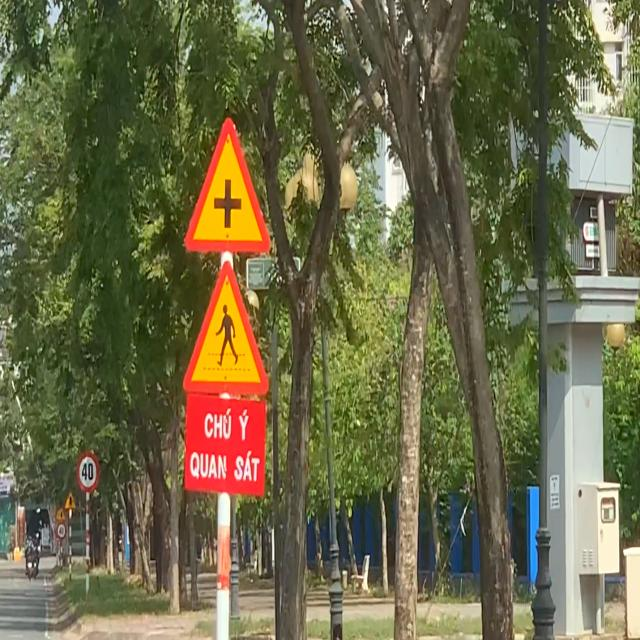Duong giao nhau: (182, 117, 270, 255)
Nguoi di bo cat ngang: (182, 259, 270, 398)
Toc do toi da: (76, 451, 100, 494), (56, 522, 66, 540)
